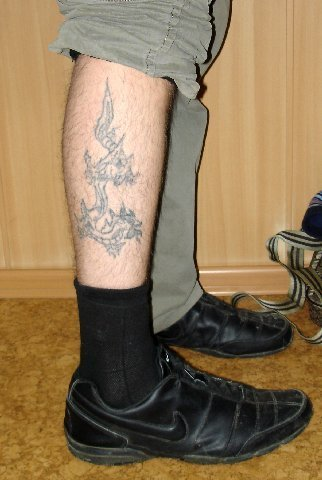tatu6_drakon: (68, 76, 154, 265)
